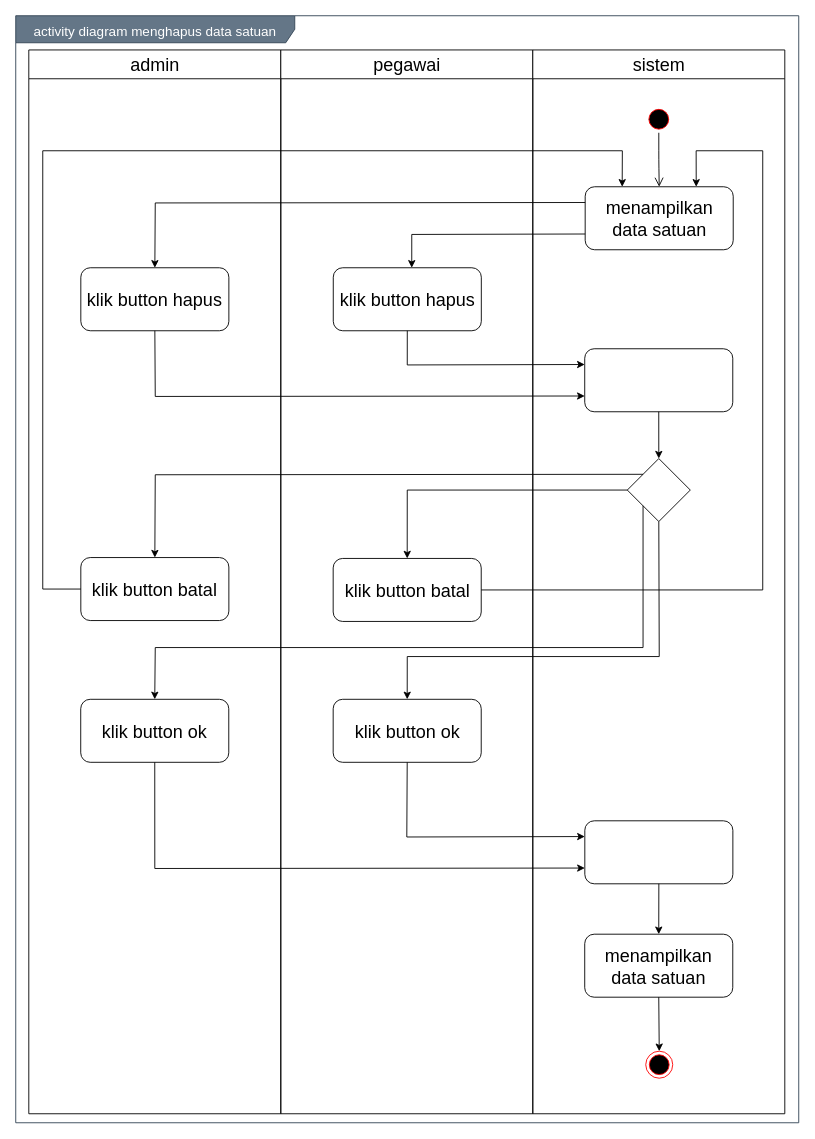
This 815x1139 diagram has some shape labels left out. Each missing label, with the centre of its shape:
menampilkan konfirmasi hapus data satuan: the point at 658,380
menghapus data satuan: the point at 658,852
